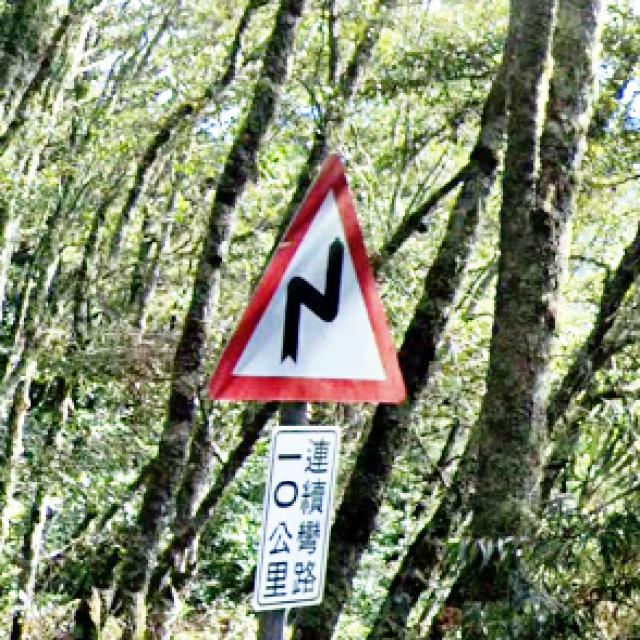doublebendright: (209, 156, 407, 406)
